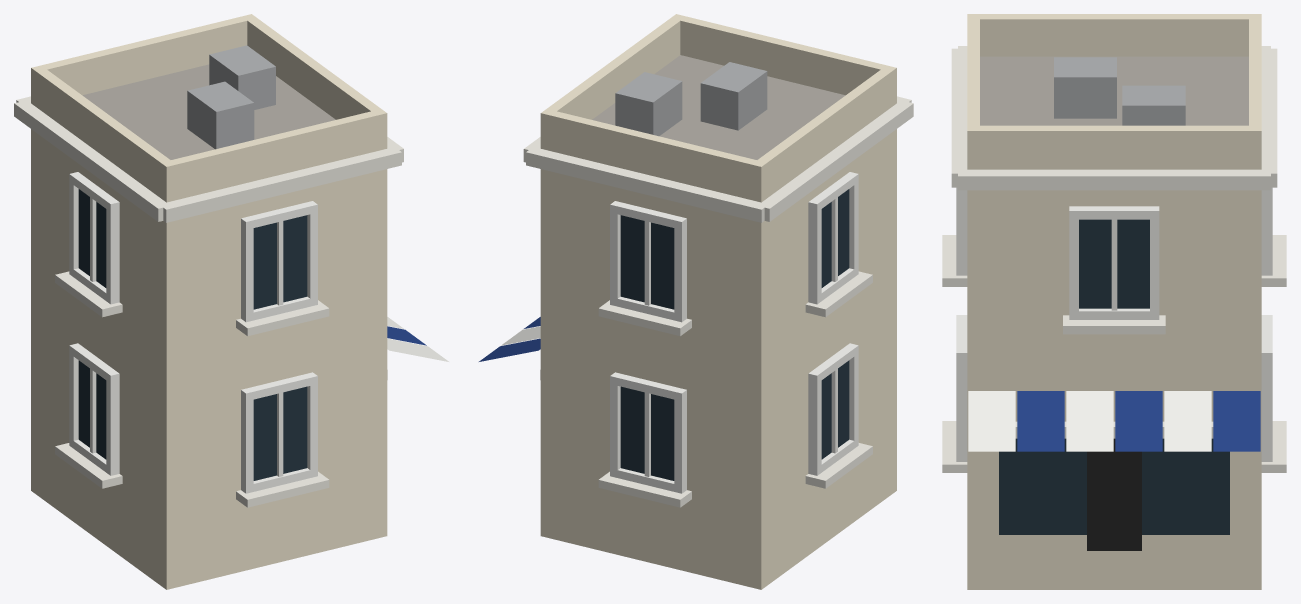
3 views of the same model, side by side, from view 1: azimuth 30°, elevation 25°; view 2: azimuth 150°, elevation 25°; view 3: azimuth 270°, elevation 25° (orthographic). The views are drawn at different scales.
Parts seen in each view (by area): view 1: b11868; view 2: b11868; view 3: b11868.
Boxes of the visible parts, x1,y1,x2,y2 form: b11868: (14, 14, 448, 589); b11868: (479, 14, 913, 589); b11868: (942, 14, 1286, 589).
Bounding box in the file's own units: 2411 × 3238 × 2181.
